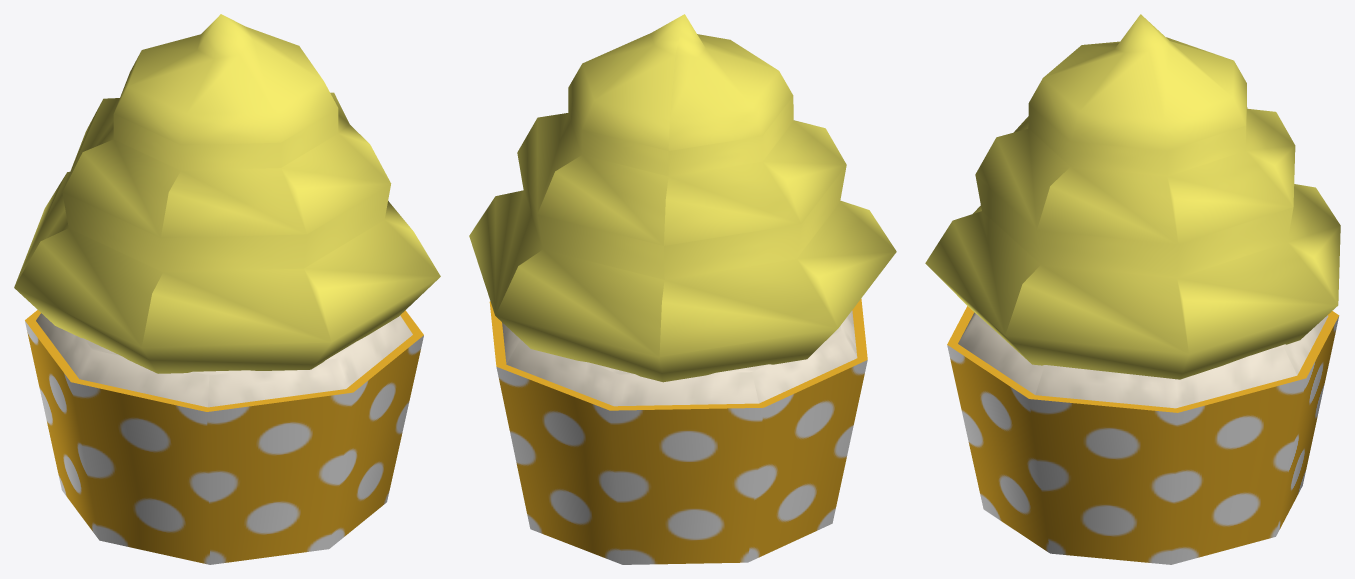
Rendered from Cupcake_A_12.FBX.
3 renders of one model, left to right at view 1: azimuth 30°, elevation 25°; view 2: azimuth 150°, elevation 25°; view 3: azimuth 270°, elevation 25°, orthographic.
Visible parts, largest first — view 1: Cupcake; view 2: Cupcake; view 3: Cupcake.
Boxes of the visible parts, box(x1,y1,x2,y2) form: Cupcake: box(14, 14, 440, 564); Cupcake: box(469, 14, 896, 564); Cupcake: box(925, 14, 1340, 564).
Bounding box in the file's own units: 34.42 × 43.01 × 33.65.
